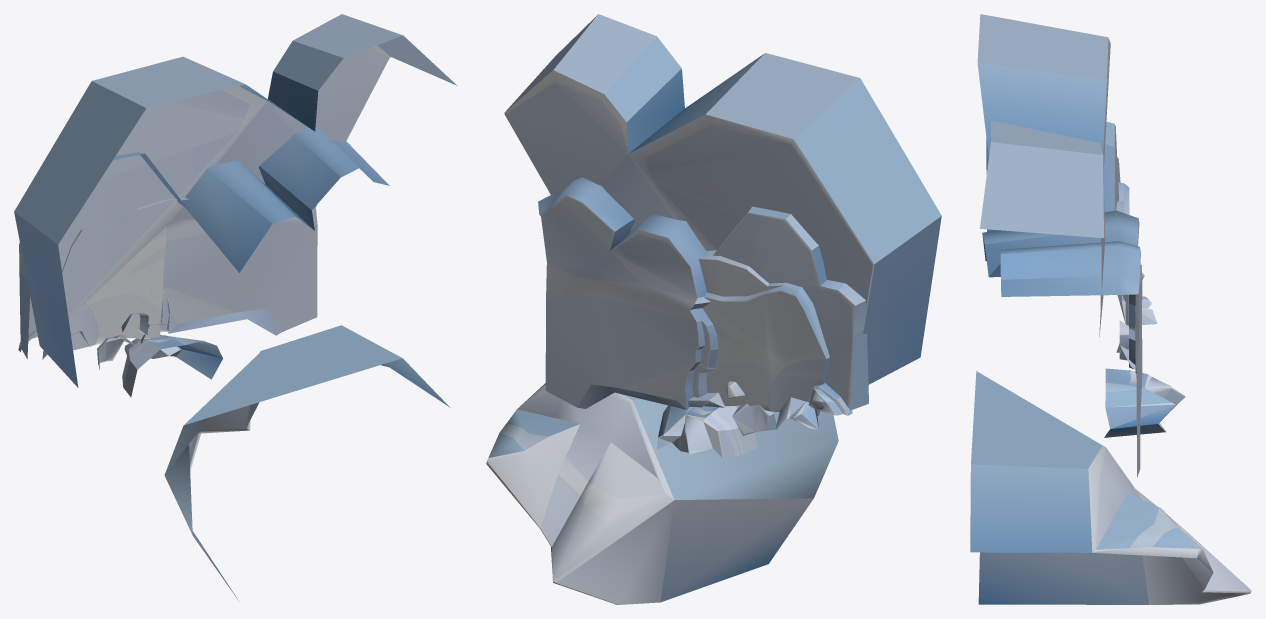
The model's file is iceEntrance.fbx.
3 views of the same model, side by side, from view 1: azimuth 30°, elevation 25°; view 2: azimuth 150°, elevation 25°; view 3: azimuth 270°, elevation 25° (orthographic). The views are drawn at different scales.
Parts seen in each view (by area): view 1: iceEntrance; view 2: iceEntrance; view 3: iceEntrance.
Part boxes in pixels (x1,y1,x2,y2): iceEntrance: (14, 14, 457, 600); iceEntrance: (486, 14, 941, 604); iceEntrance: (970, 14, 1251, 604).
Size of the model in its own units: 2232 by 2817 by 1312.
